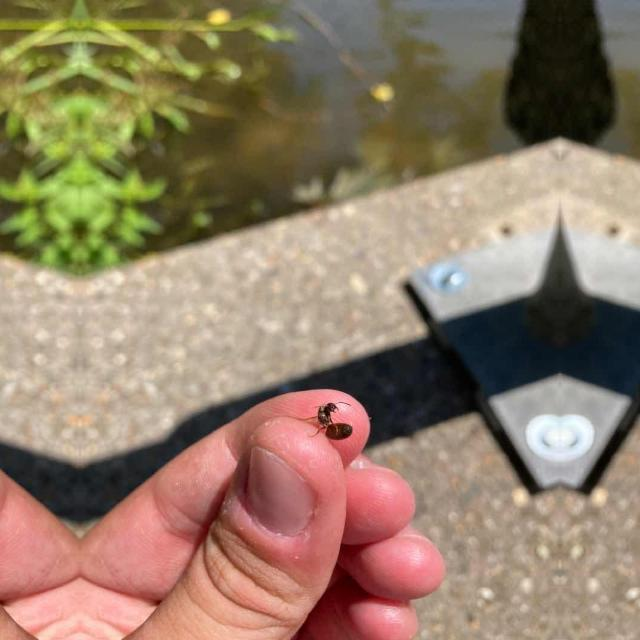Lasius: (302, 391, 358, 451)
